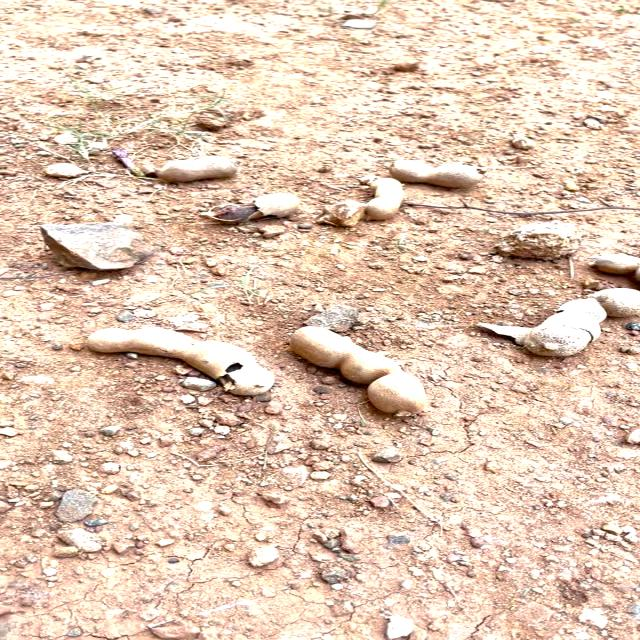tamarind: (90, 322, 275, 397), (292, 324, 436, 420), (524, 285, 640, 355), (188, 192, 306, 225), (154, 152, 242, 184), (392, 157, 480, 185), (368, 177, 407, 224)
